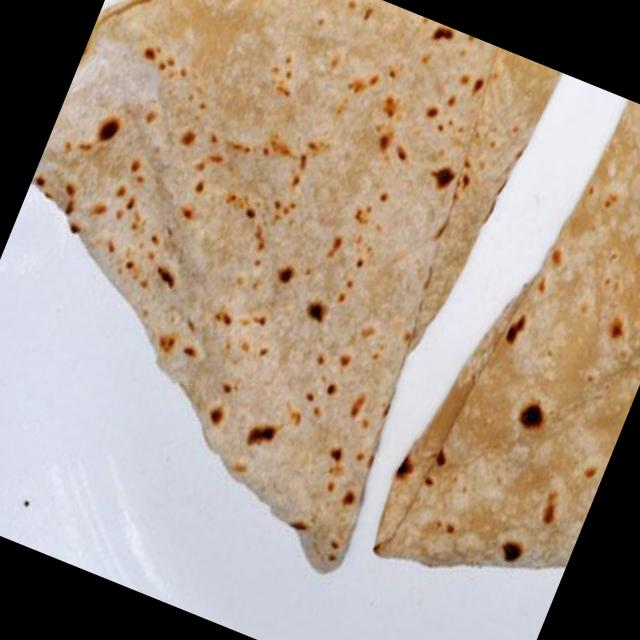roti: (30, 0, 563, 573), (369, 106, 640, 573)
